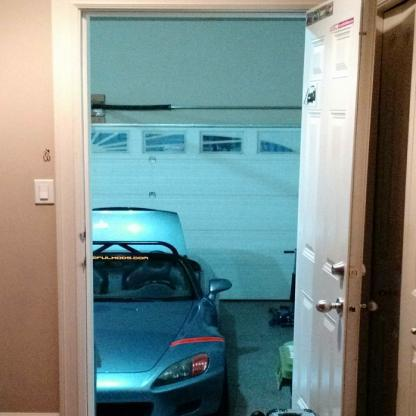door: (296, 0, 371, 415)
knob: (314, 296, 334, 316), (361, 298, 379, 316)
